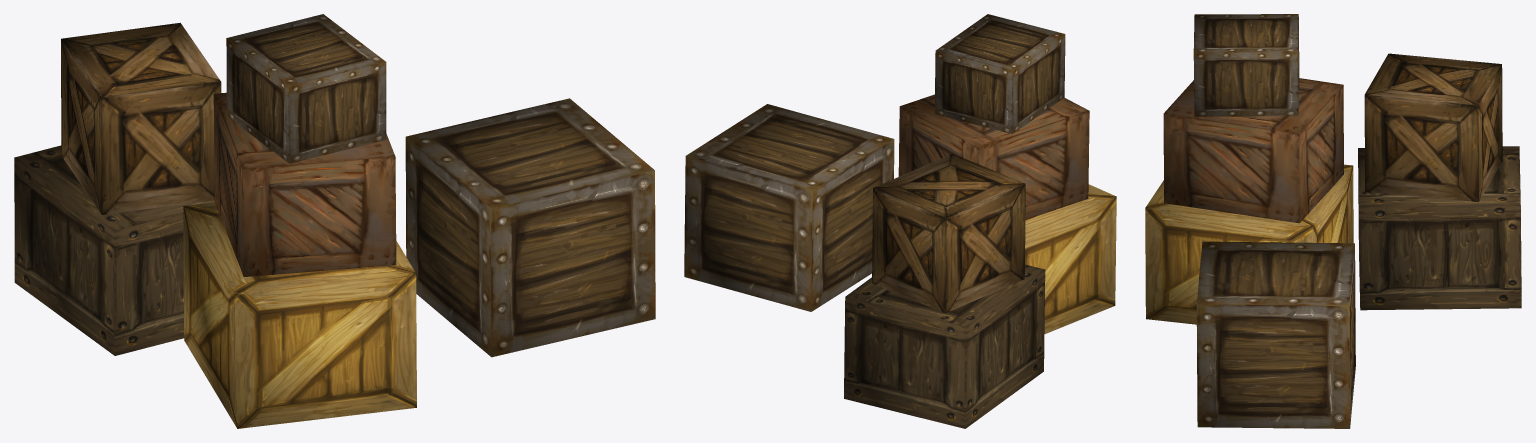
Rendered from deadminecargoboxes.obj.
The picture shows the model from 3 angles, left to right: view 1: azimuth 30°, elevation 25°; view 2: azimuth 150°, elevation 25°; view 3: azimuth 270°, elevation 25°; orthographic projection. The views are drawn at different scales.
Visible parts, largest first — view 1: Geoset2, Geoset3, Geoset1, Geoset0, Geoset4; view 2: Geoset2, Geoset0, Geoset1, Geoset4, Geoset3; view 3: Geoset2, Geoset0, Geoset4, Geoset1, Geoset3.
Boxes of the visible parts, bbox=[...] form: Geoset2: bbox=[226, 14, 655, 357]; Geoset3: bbox=[183, 202, 416, 428]; Geoset1: bbox=[61, 22, 221, 214]; Geoset0: bbox=[14, 145, 214, 355]; Geoset4: bbox=[213, 92, 396, 276]; Geoset2: bbox=[684, 14, 1065, 311]; Geoset0: bbox=[844, 264, 1045, 428]; Geoset1: bbox=[872, 153, 1025, 313]; Geoset4: bbox=[898, 94, 1089, 219]; Geoset3: bbox=[1025, 184, 1116, 334]; Geoset2: bbox=[1193, 14, 1355, 428]; Geoset0: bbox=[1358, 146, 1521, 310]; Geoset4: bbox=[1163, 78, 1343, 223]; Geoset1: bbox=[1364, 53, 1502, 201]; Geoset3: bbox=[1145, 164, 1353, 324].
Bounding box in the file's own units: 2.57 × 1.78 × 2.26.
5 materials, 5 textured.
